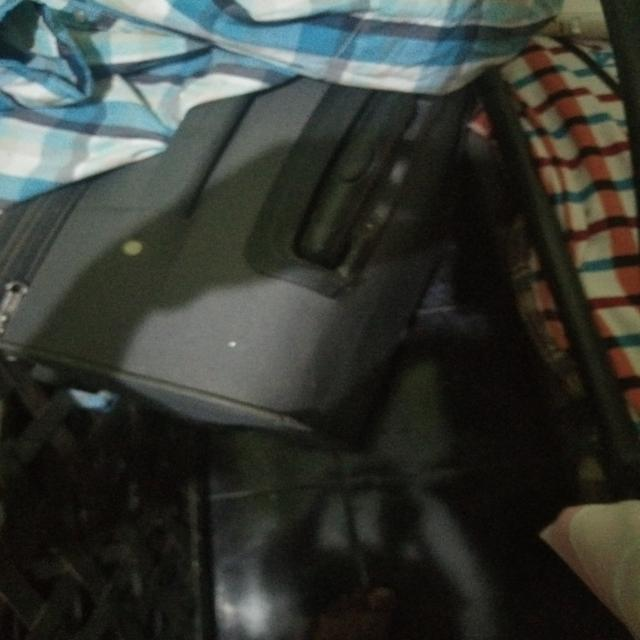suitcaserotation: (0, 72, 471, 447)
